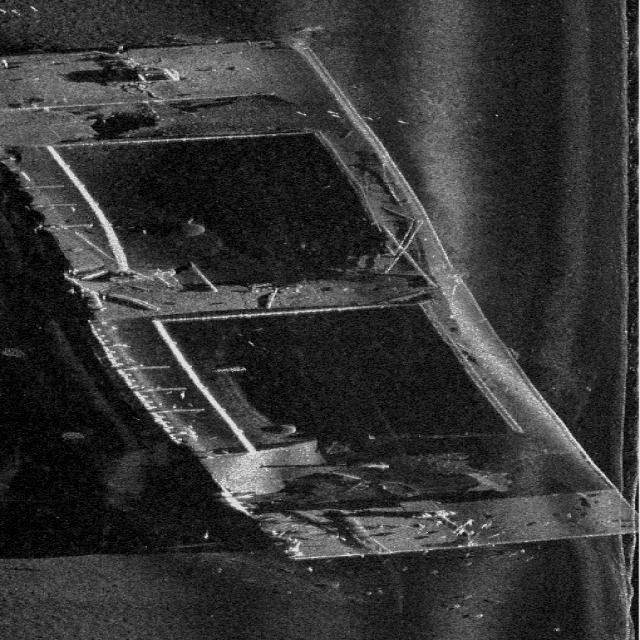ship: (0, 49, 621, 544)
